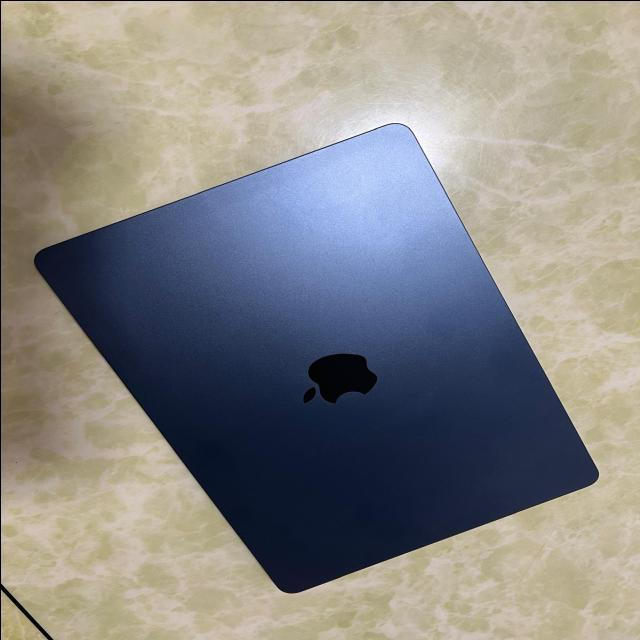laptop: (32, 121, 599, 594)
